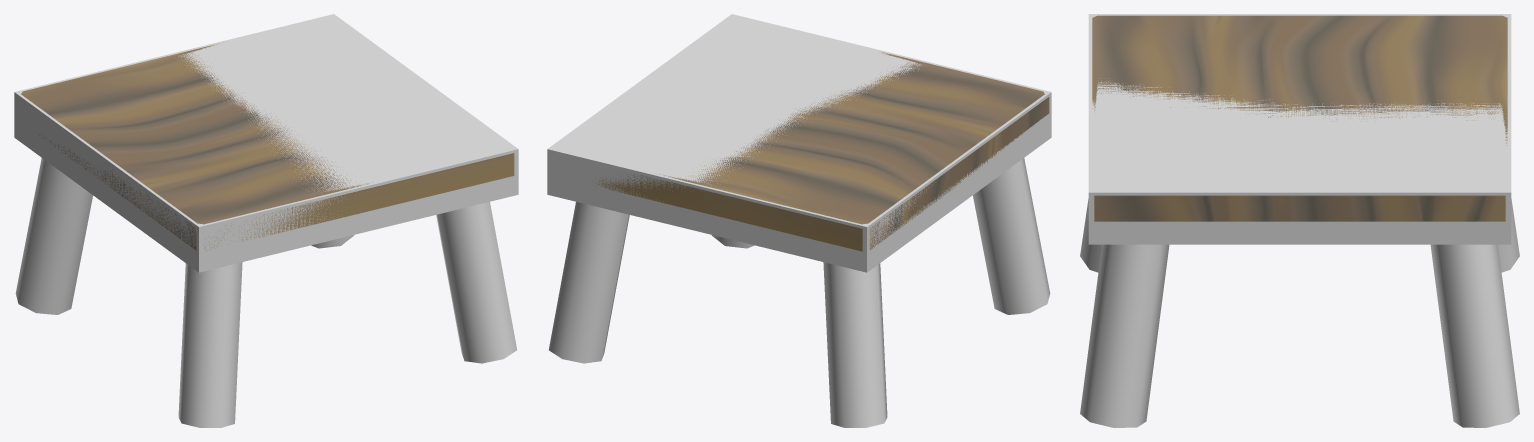
The model's file is TKTable.fbx.
3 renders of one model, left to right at view 1: azimuth 30°, elevation 25°; view 2: azimuth 150°, elevation 25°; view 3: azimuth 270°, elevation 25°, orthographic. The views are drawn at different scales.
Visible parts, largest first — view 1: COL, TKtable; view 2: COL, TKtable; view 3: COL, TKtable.
Boxes of the visible parts, x1,y1,x2,y2 form: COL: (14,14,518,427); TKtable: (21,42,514,250); COL: (547,14,1051,427); TKtable: (590,52,1049,251); COL: (1080,14,1519,427); TKtable: (1092,15,1507,221).
Bounding box in the file's own units: 57.28 × 57.28 × 34.59.
1 material, 1 textured.
